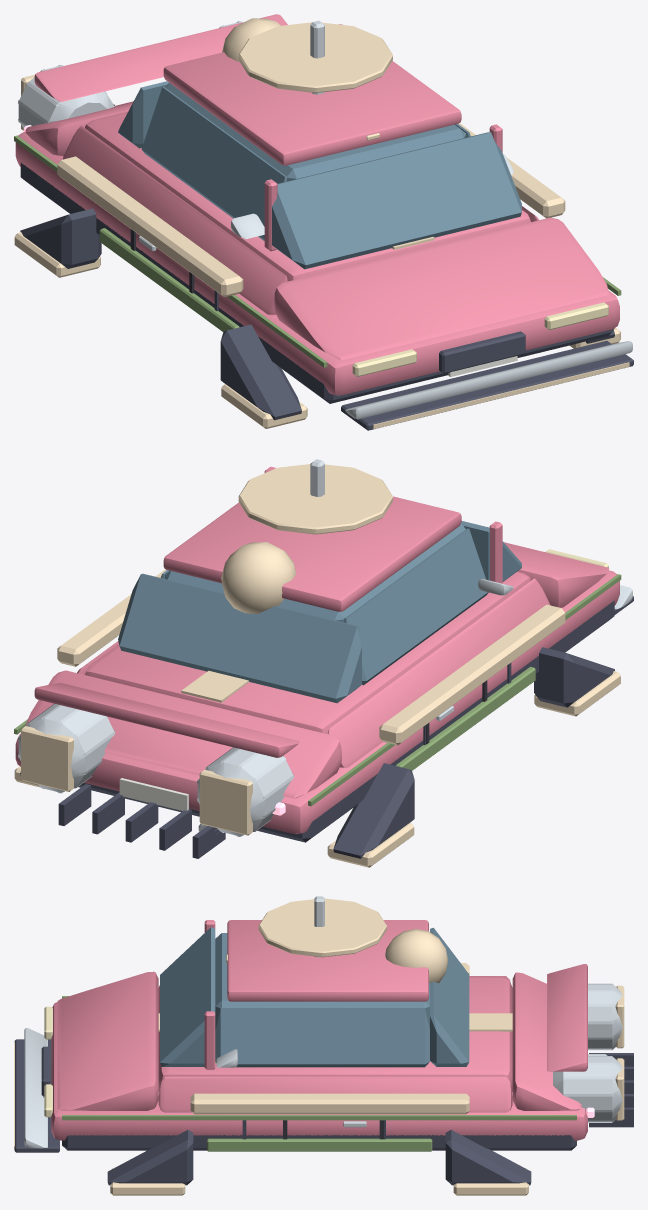
Rendered from plasma_pacer.fbx.
The picture shows the model from 3 angles, top to bottom: view 1: azimuth 30°, elevation 25°; view 2: azimuth 150°, elevation 25°; view 3: azimuth 270°, elevation 25°; orthographic projection. The views are drawn at different scales.
Visible parts, largest first — view 1: Body, Glass, Light, Trim, Accent, Accent2, Light2; view 2: Body, Glass, Light, Trim, Accent, Accent2, Accent3; view 3: Body, Glass, Light, Trim, Accent, Accent2, Light2.
Part boxes in pixels (x1,y1,x2,y2): Body: (15, 14, 619, 395); Glass: (118, 81, 521, 269); Light: (14, 18, 629, 428); Trim: (20, 162, 633, 430); Accent: (18, 20, 632, 419); Accent2: (14, 135, 621, 367); Light2: (352, 302, 608, 376); Body: (15, 466, 619, 833); Glass: (118, 521, 521, 703); Light: (14, 464, 620, 867); Trim: (20, 596, 633, 858); Accent: (18, 459, 632, 836); Accent2: (14, 574, 621, 806); Accent3: (119, 778, 188, 810); Body: (51, 920, 587, 1140); Glass: (160, 927, 469, 1067); Light: (14, 898, 624, 1195); Trim: (14, 1039, 633, 1185); Accent: (24, 896, 622, 1148); Accent2: (62, 996, 576, 1151); Light2: (44, 1006, 52, 1117).
Bounding box in the file's own units: 3.2 × 2.33 × 5.78.
